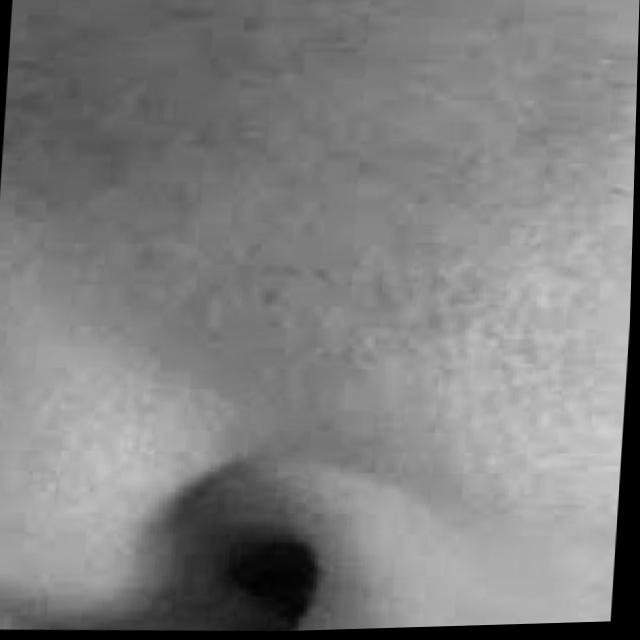Rosacea: (15, 0, 640, 390)
